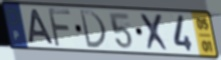4: (172, 13, 197, 54)
5: (107, 12, 135, 50)
A: (28, 8, 56, 46)
D: (78, 9, 108, 50)
F: (46, 7, 73, 49)
X: (138, 12, 172, 53)
